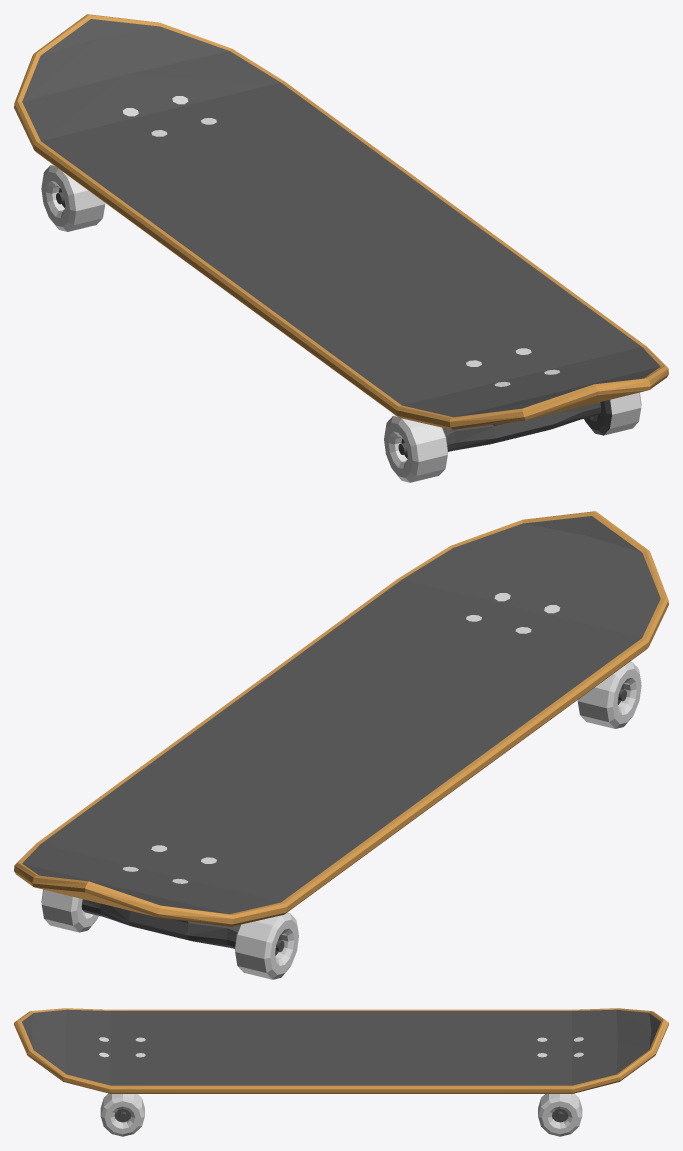
The model's file is Skateboard.glb.
The picture shows the model from 3 angles, top to bottom: view 1: azimuth 30°, elevation 25°; view 2: azimuth 150°, elevation 25°; view 3: azimuth 270°, elevation 25°; orthographic projection. The views are drawn at different scales.
Parts seen in each view (by area): view 1: Skateboard; view 2: Skateboard; view 3: Skateboard.
Boxes of the visible parts, x1,y1,x2,y2 form: Skateboard: (14, 14, 668, 482); Skateboard: (14, 511, 668, 979); Skateboard: (14, 1008, 668, 1136).
Bounding box in the file's own units: 34.73 × 16.9 × 122.
Materials: 1 (1 with a texture image).
